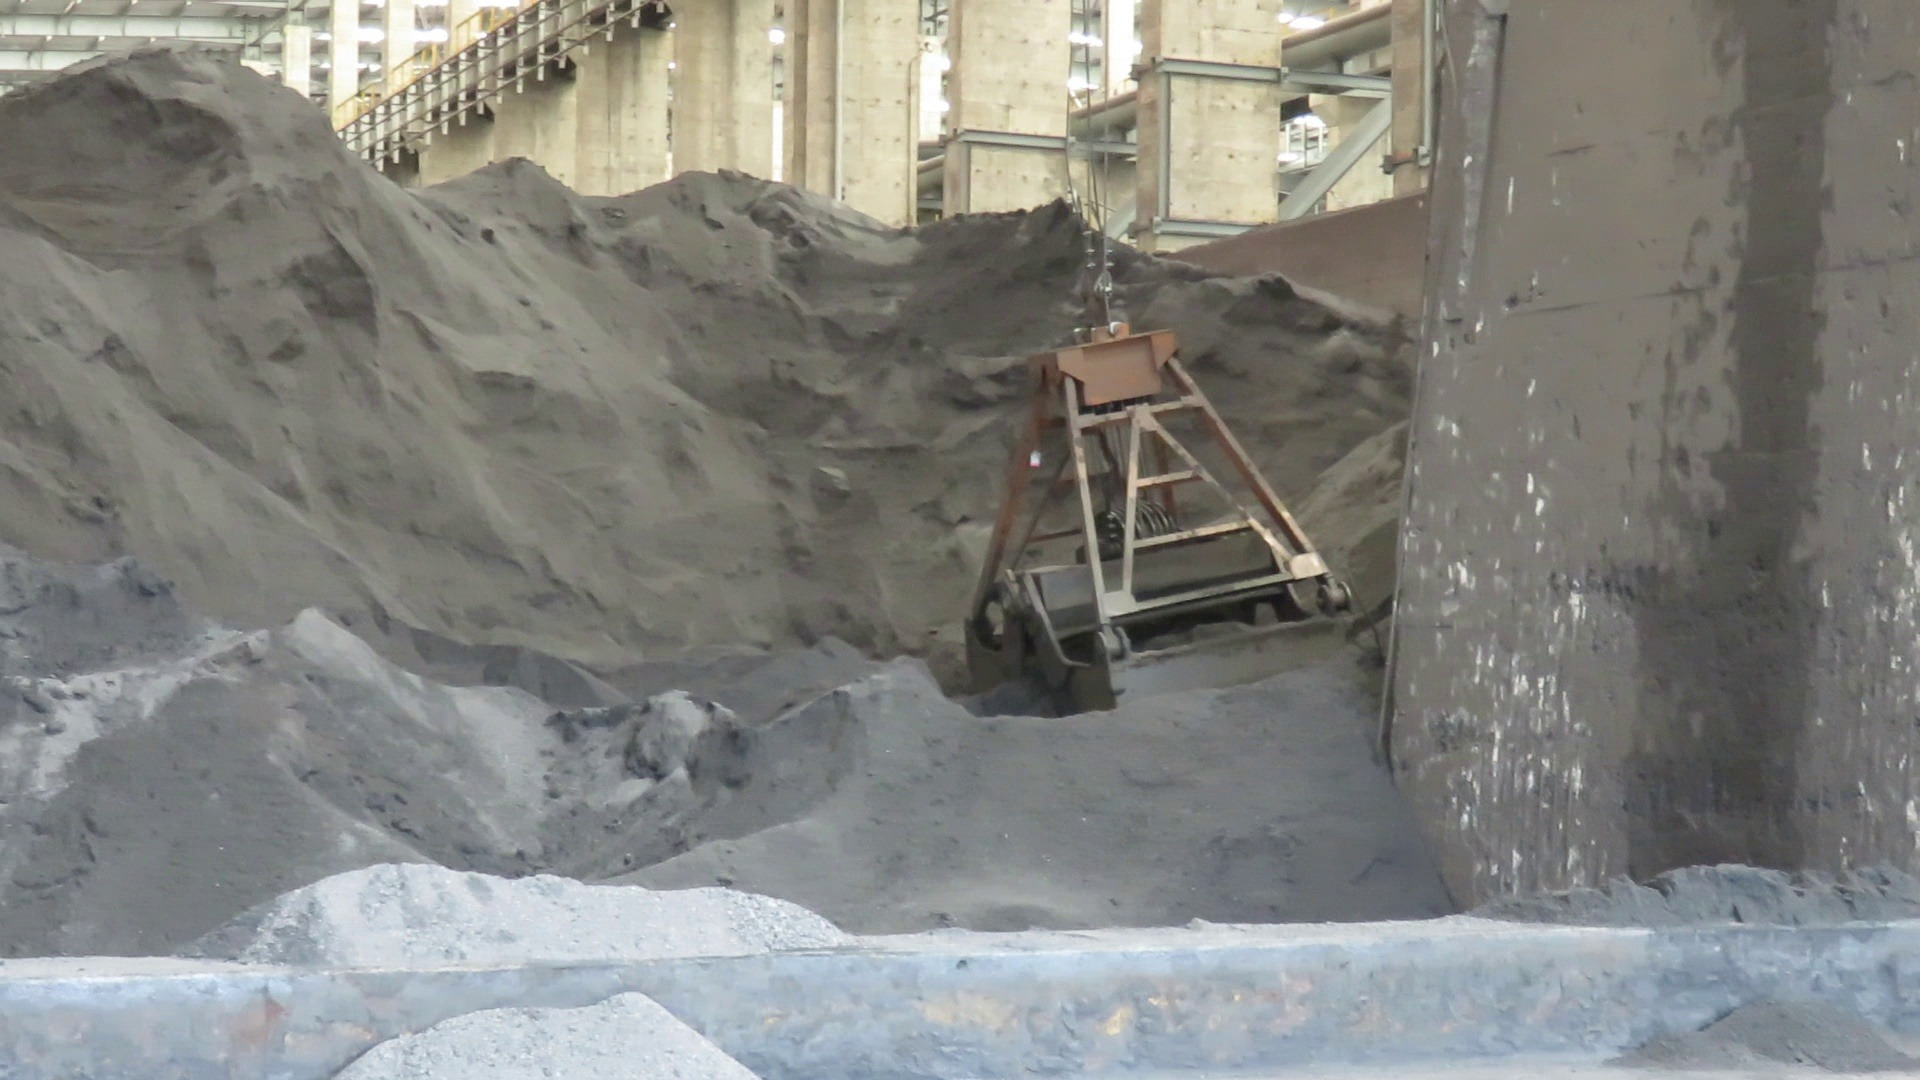grab: (953, 305, 1367, 711)
